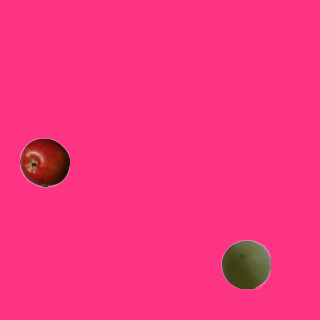Apple Braeburn: (19, 137, 69, 187)
Grape White 4: (220, 239, 270, 289)
